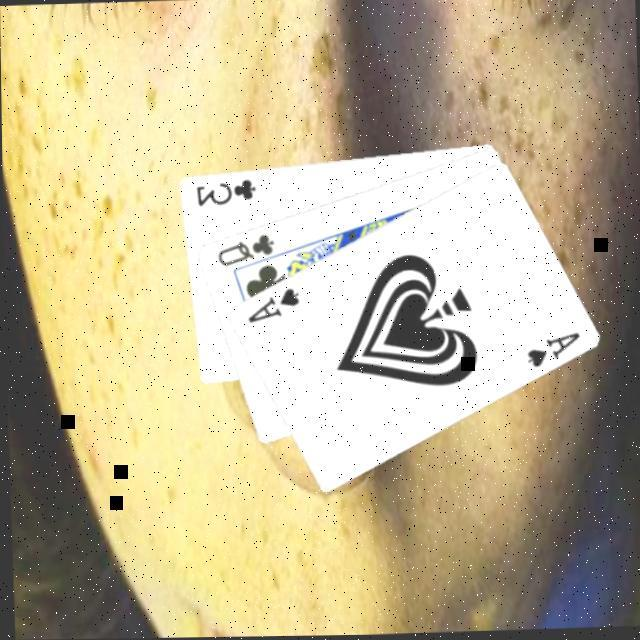3C: (193, 174, 260, 208)
AS: (522, 328, 584, 372), (244, 283, 302, 325)
QC: (214, 230, 279, 270)
